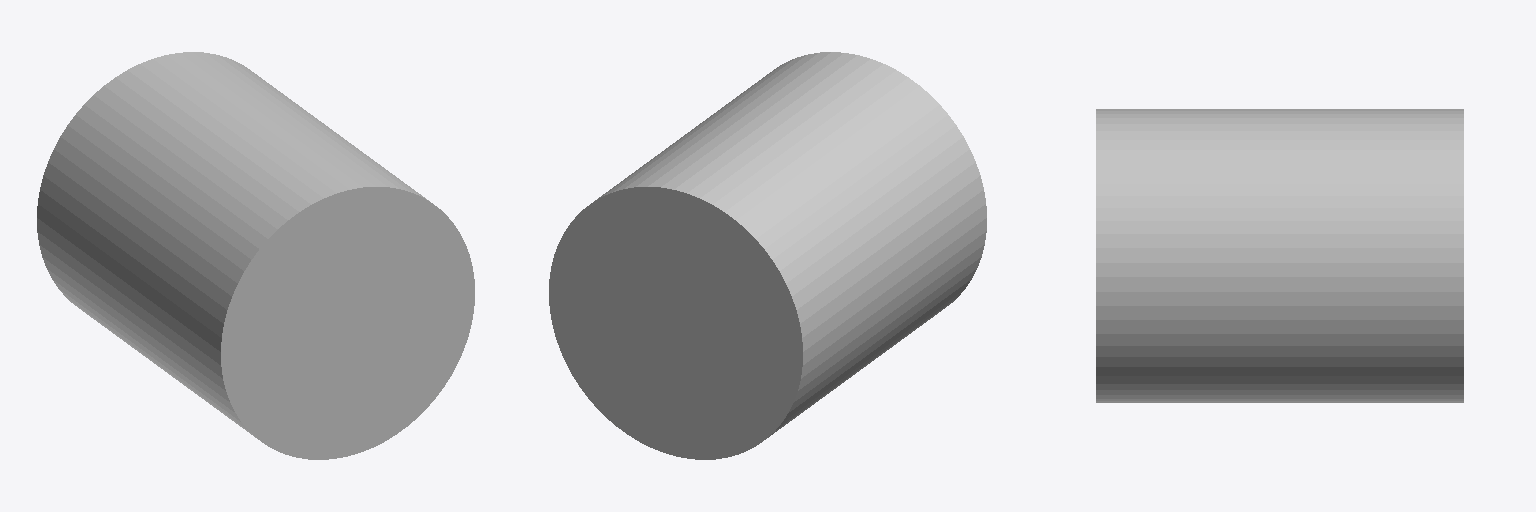
The model's file is cyl.obj.
The picture shows the model from 3 angles: view 1: azimuth 30°, elevation 25°; view 2: azimuth 150°, elevation 25°; view 3: azimuth 270°, elevation 25°; orthographic projection.
Parts seen in each view (by area): view 1: object_1; view 2: object_1; view 3: object_1.
Part boxes in pixels (left/top/right/bottom): object_1: left=37, top=52, right=474, bottom=459; object_1: left=549, top=52, right=986, bottom=459; object_1: left=1096, top=109, right=1463, bottom=402.
Bounding box in the file's own units: 8.25 × 8.25 × 10.34.